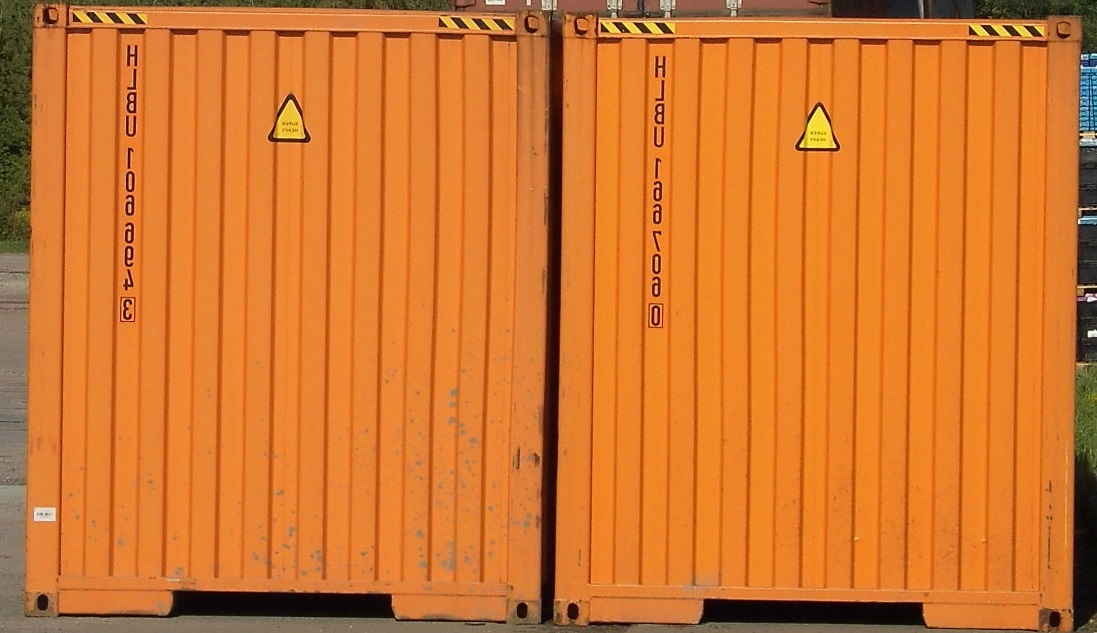container_no_door: (556, 9, 1069, 633), (26, 6, 543, 619)
